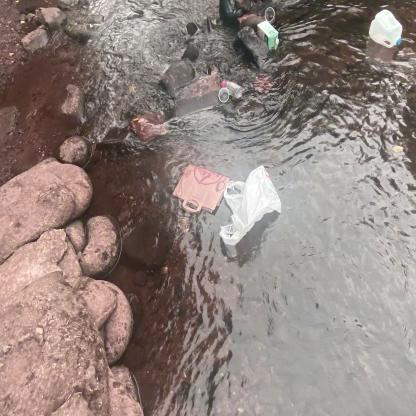Plastic: (216, 161, 284, 251), (366, 7, 404, 49), (219, 77, 245, 104)
Trash: (168, 160, 231, 216)
